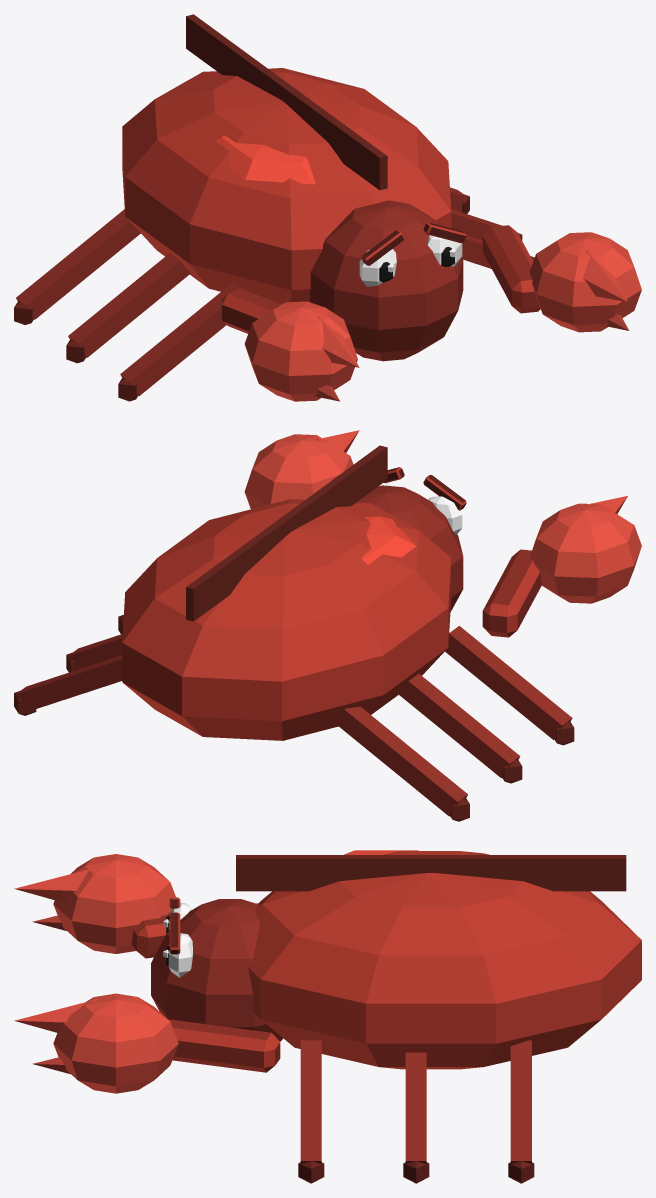
The model's file is krebs.glb.
3 renders of one model, top to bottom at view 1: azimuth 30°, elevation 25°; view 2: azimuth 150°, elevation 25°; view 3: azimuth 270°, elevation 25°, orthographic.
Parts seen in each view (by area): view 1: body-m, leg-0-m, leg-1-m; view 2: body-m, leg-0-m, leg-1-m; view 3: body-m, leg-1-m.
Boxes of the visible parts, x1=… form: body-m: x1=122, y1=14, x2=641, y2=401; leg-0-m: x1=14, y1=209, x2=243, y2=401; leg-1-m: x1=450, y1=187, x2=534, y2=268; body-m: x1=122, y1=430, x2=641, y2=740; leg-0-m: x1=336, y1=626, x2=574, y2=821; leg-1-m: x1=14, y1=614, x2=123, y2=715; body-m: x1=14, y1=850, x2=641, y2=1093; leg-1-m: x1=298, y1=1040, x2=534, y2=1183.
Size of the model in its own units: 1.77 by 0.81 by 2.09.
